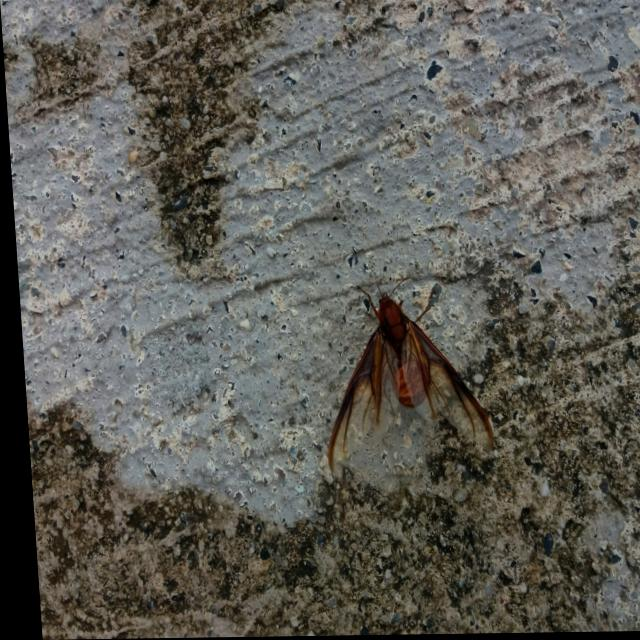Alive-Male-Alate: (311, 267, 489, 477)
